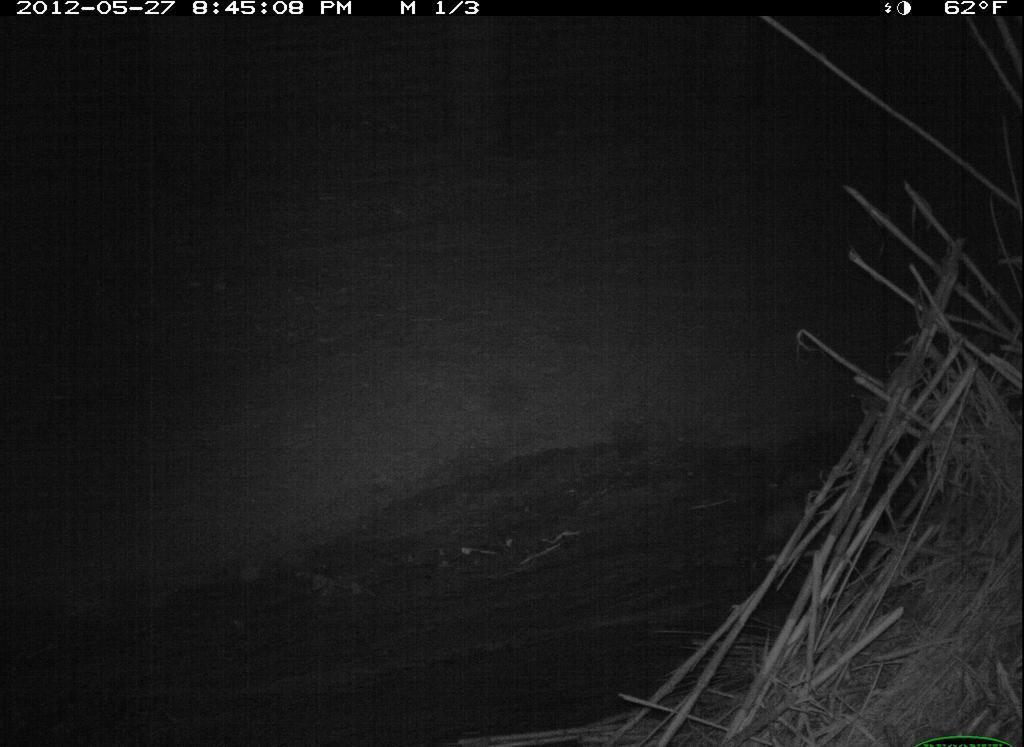opossum: (753, 486, 832, 559)
